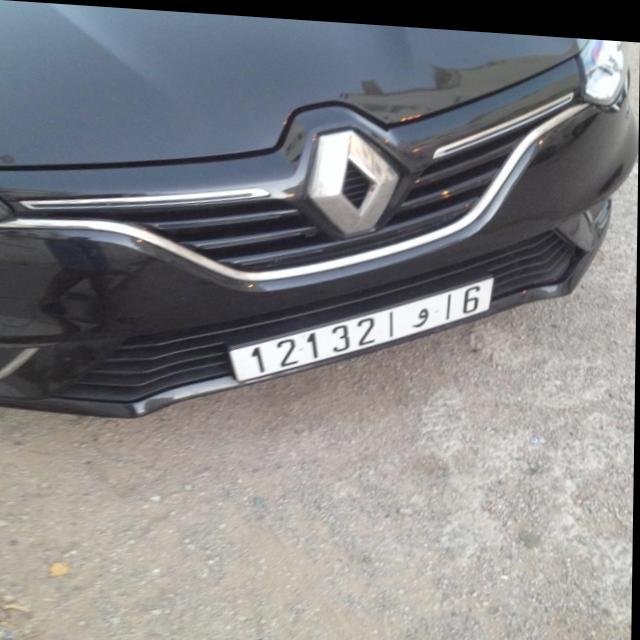License-Plate: (231, 272, 494, 378)
